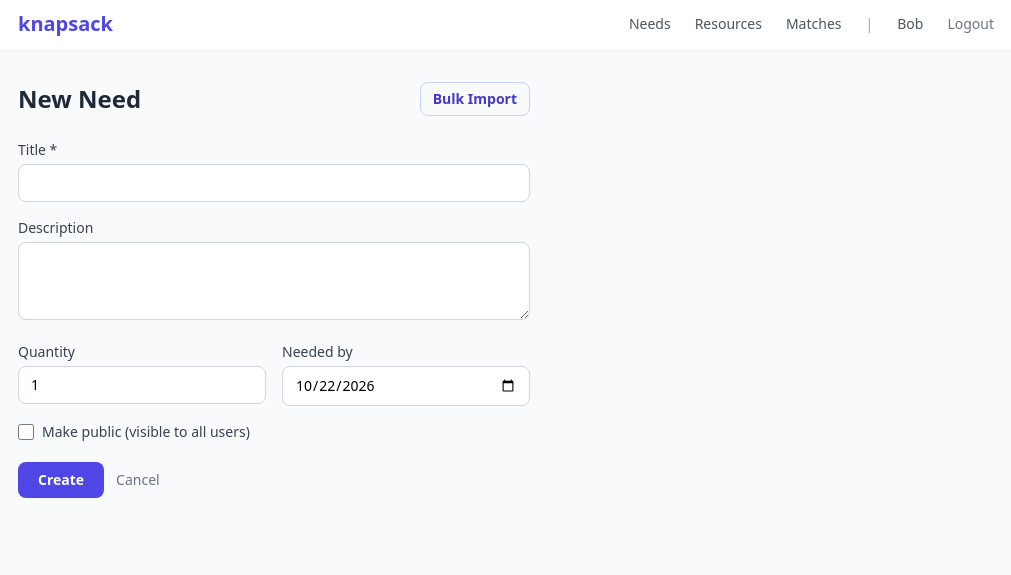
Test: NewNeedPage › shows error message when API rejects
Type "My Need" into the field labelled "Title *".
click(274, 183); type("My Need")  # box [18, 164, 530, 202]
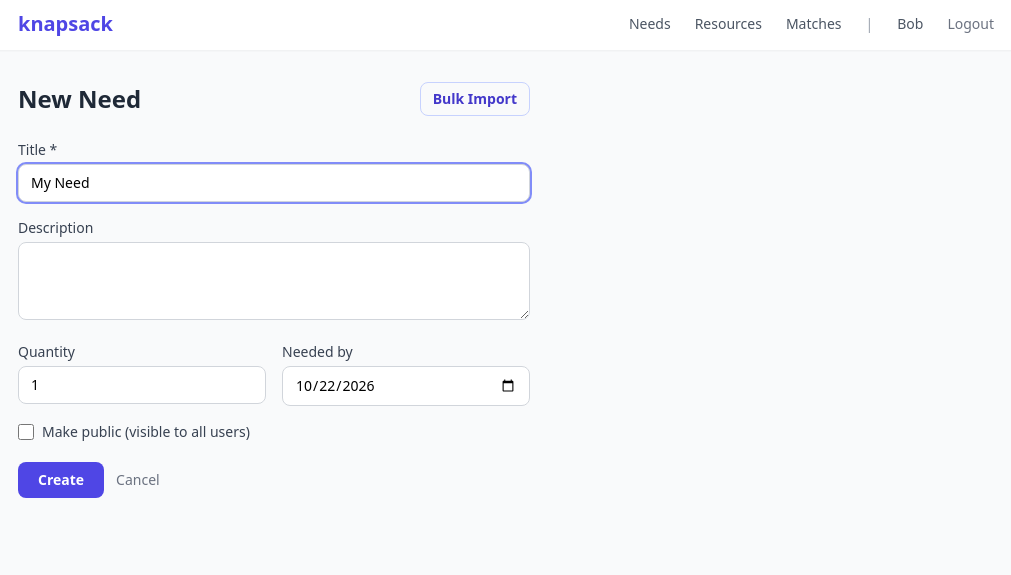
Click the button "Create".
click(61, 480)  # box [18, 462, 104, 498]
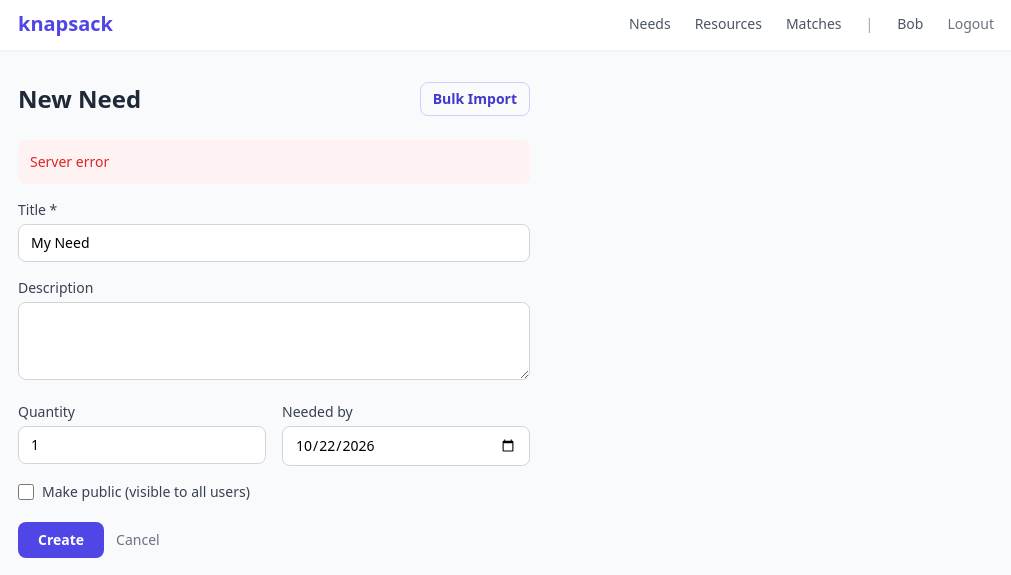
Check: the text "Server error" is shown, box [18, 140, 530, 184]
